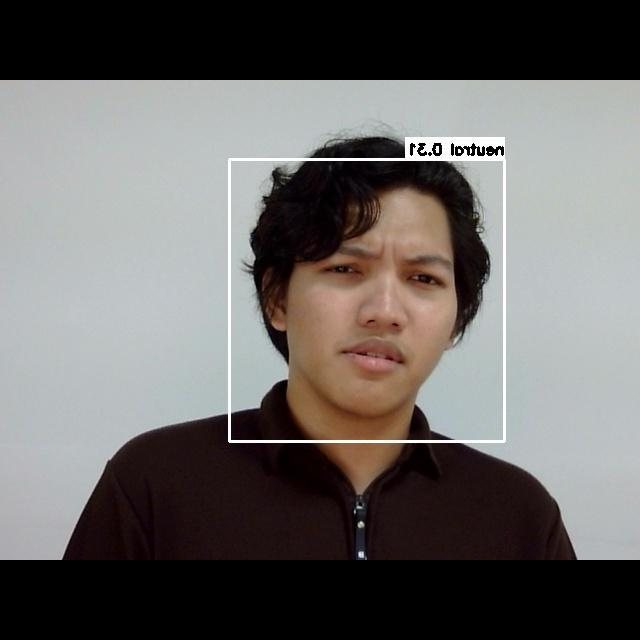Fear: (281, 220, 470, 400)
